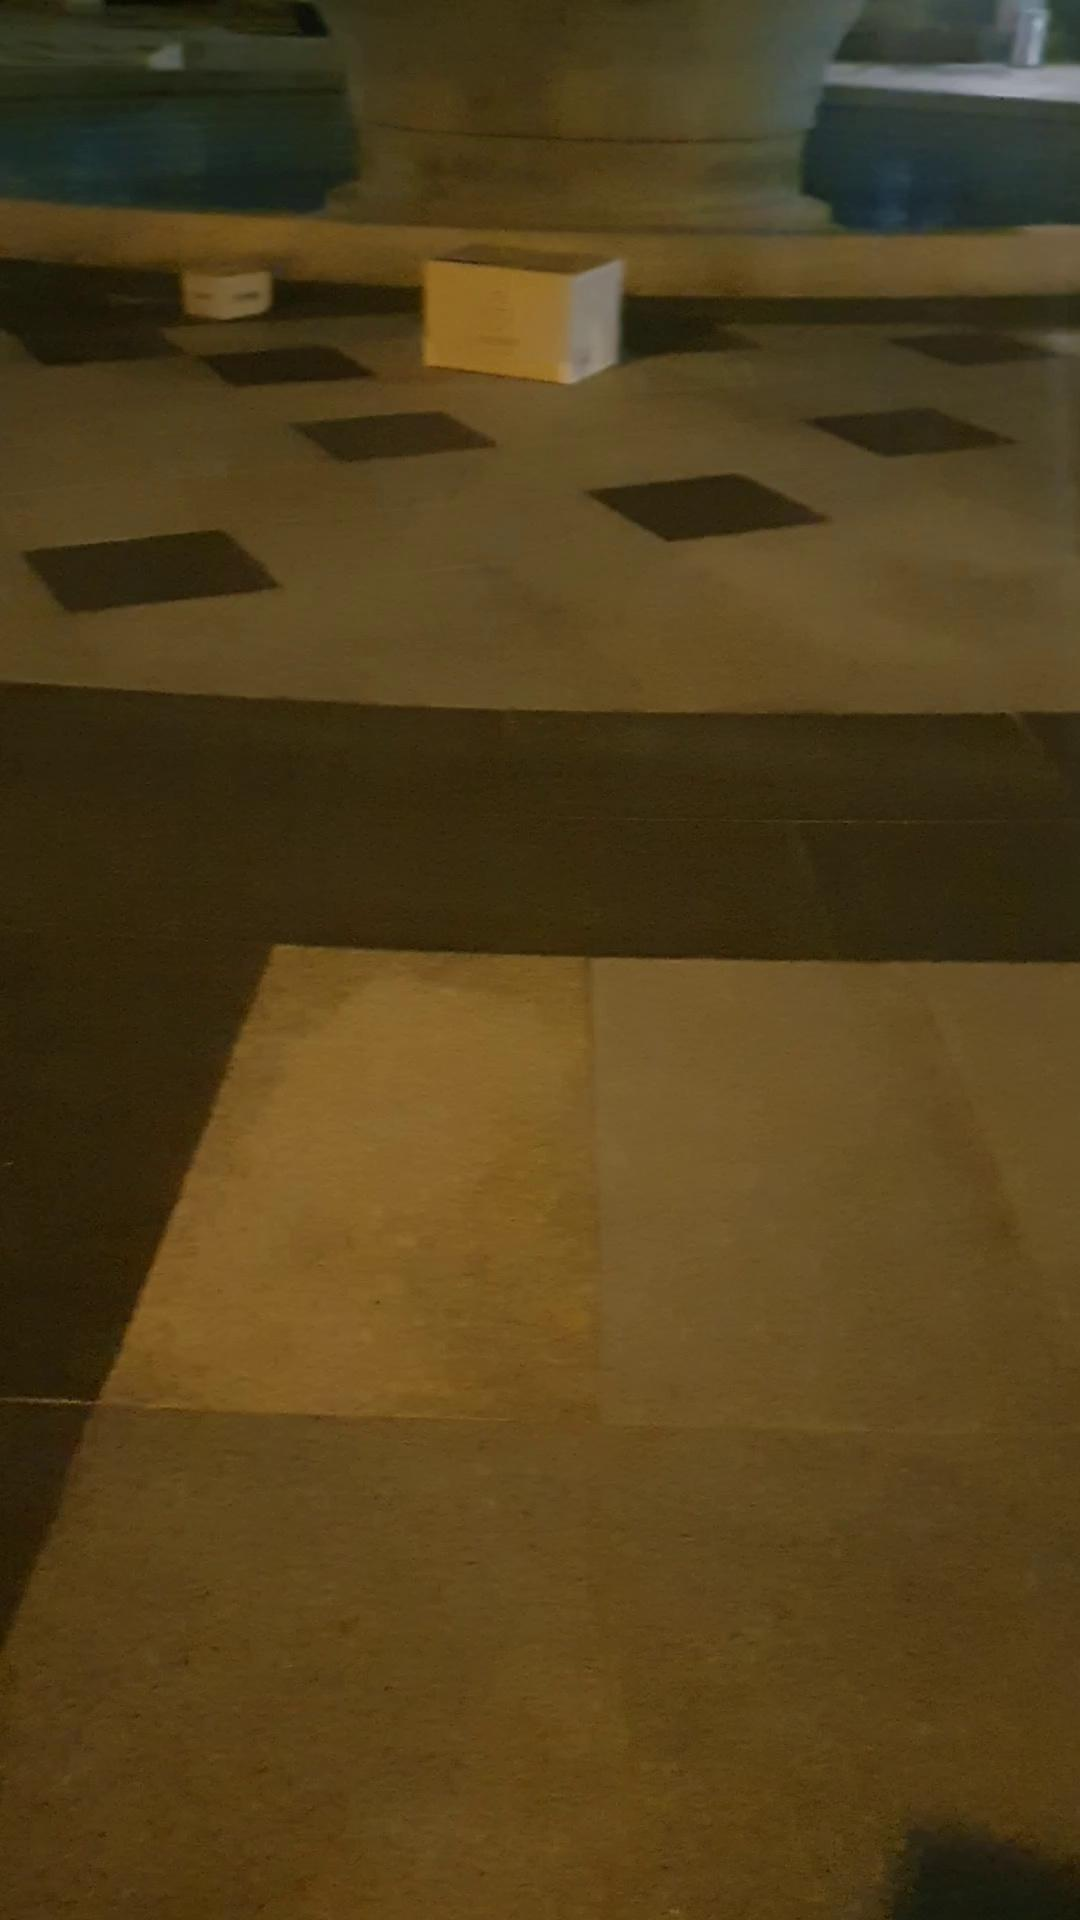Box: (407, 243, 632, 392), (164, 245, 270, 334)
